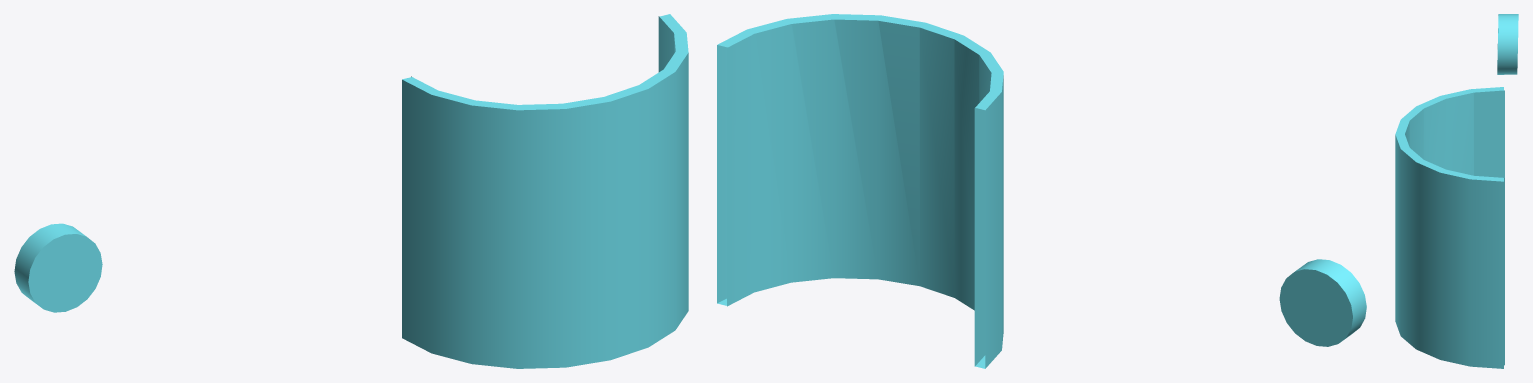
File: Vidrio.obj
3 views of the same model, side by side, from view 1: azimuth 30°, elevation 25°; view 2: azimuth 150°, elevation 25°; view 3: azimuth 270°, elevation 25° (orthographic). The views are drawn at different scales.
Visible parts, largest first — view 1: polySurface486 polySurface709, polySurface711 polySurface486; view 2: polySurface486 polySurface709, polySurface711 polySurface486; view 3: polySurface486 polySurface709, polySurface711 polySurface486.
Part boxes in pixels (<box>): polySurface486 polySurface709: <box>402,14,688,368</box>; polySurface711 polySurface486: <box>14,223,102,312</box>; polySurface486 polySurface709: <box>717,14,1003,368</box>; polySurface711 polySurface486: <box>1279,259,1366,346</box>; polySurface486 polySurface709: <box>1395,87,1504,368</box>; polySurface711 polySurface486: <box>1497,14,1518,74</box>.
Size of the model in its own units: 0.5454 by 0.2087 by 0.1244.
2 materials, 2 textured.
